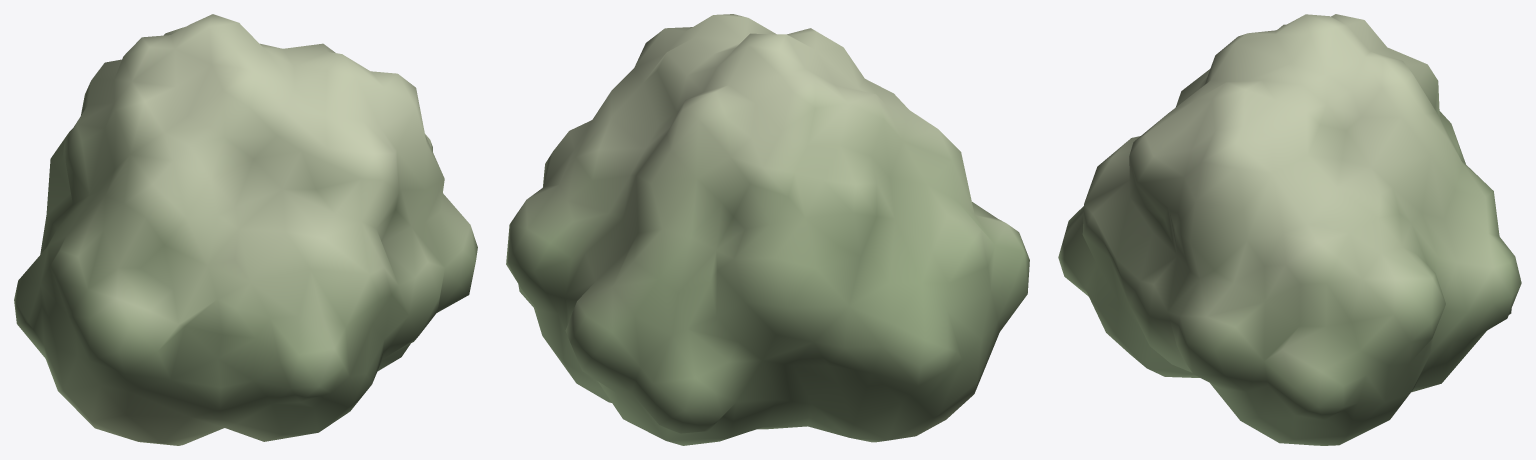
File: bush-a.glb
3 renders of one model, left to right at view 1: azimuth 30°, elevation 25°; view 2: azimuth 150°, elevation 25°; view 3: azimuth 270°, elevation 25°, orthographic. The views are drawn at different scales.
Parts seen in each view (by area): view 1: bush; view 2: bush; view 3: bush.
Boxes of the visible parts, box(x1,y1,x2,y2) form: bush: box(14, 14, 477, 445); bush: box(506, 14, 1029, 445); bush: box(1058, 14, 1521, 445).
Bounding box in the file's own units: 0.9147 × 0.7726 × 0.8972.
